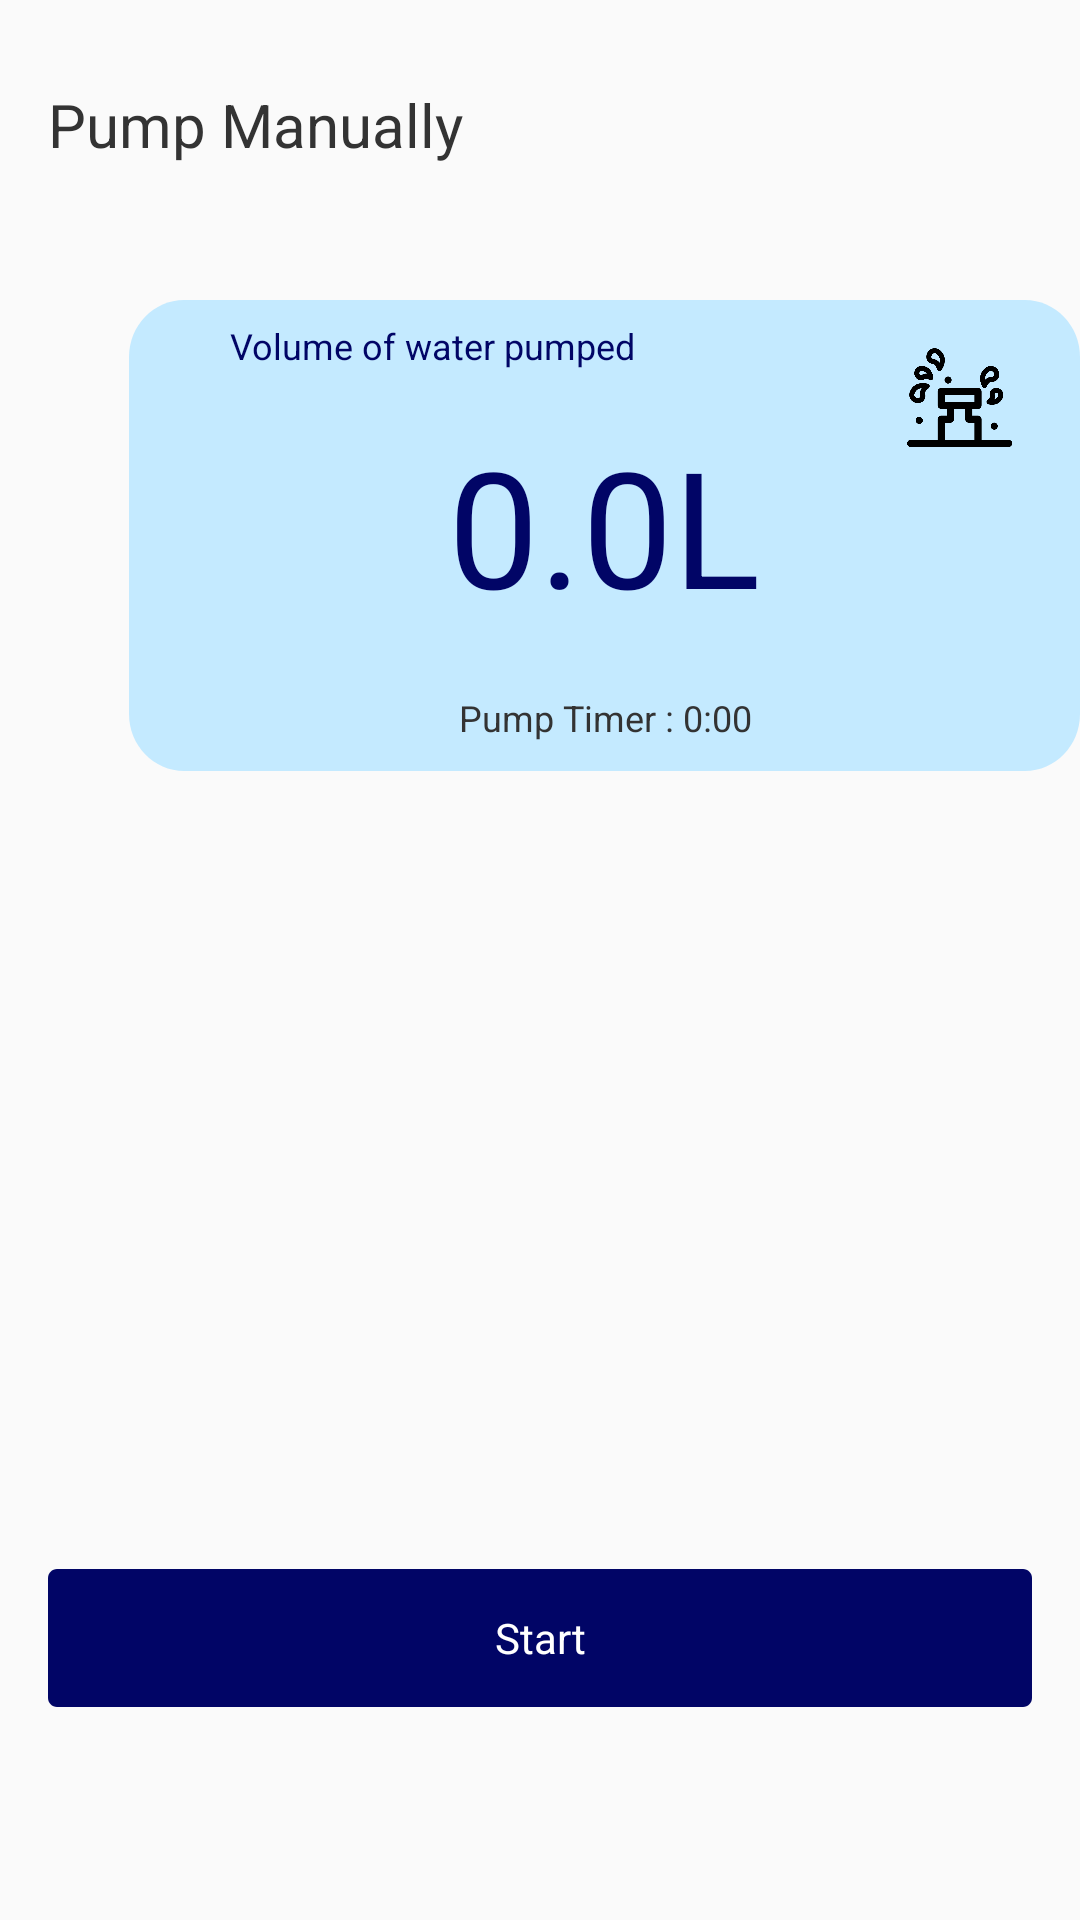

Named icons in this screenshot (1080*1920) and their bounding boxes, (x1, y1, x2, y2):
irrigation: (907, 348, 1012, 447)
